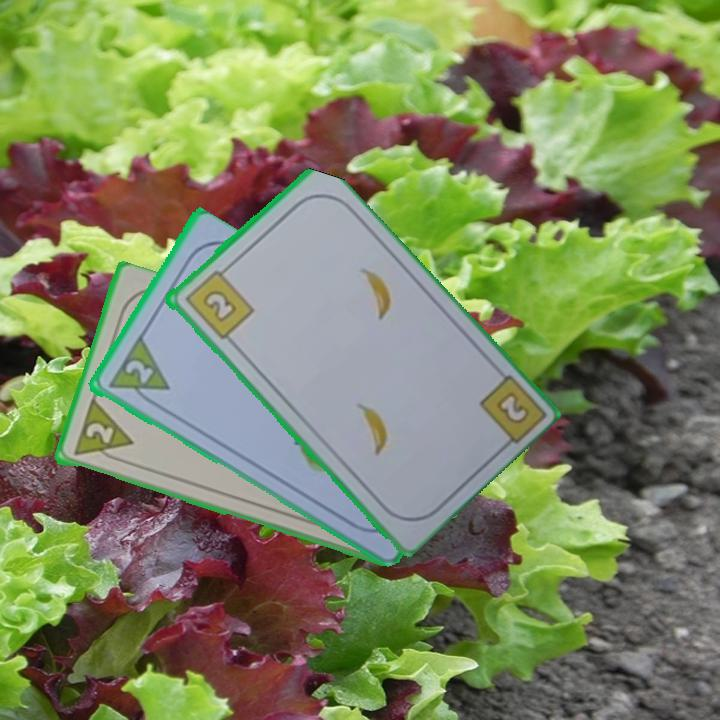2b: (181, 262, 256, 342), (492, 387, 532, 428)
2p: (103, 334, 172, 411), (69, 398, 135, 468)
